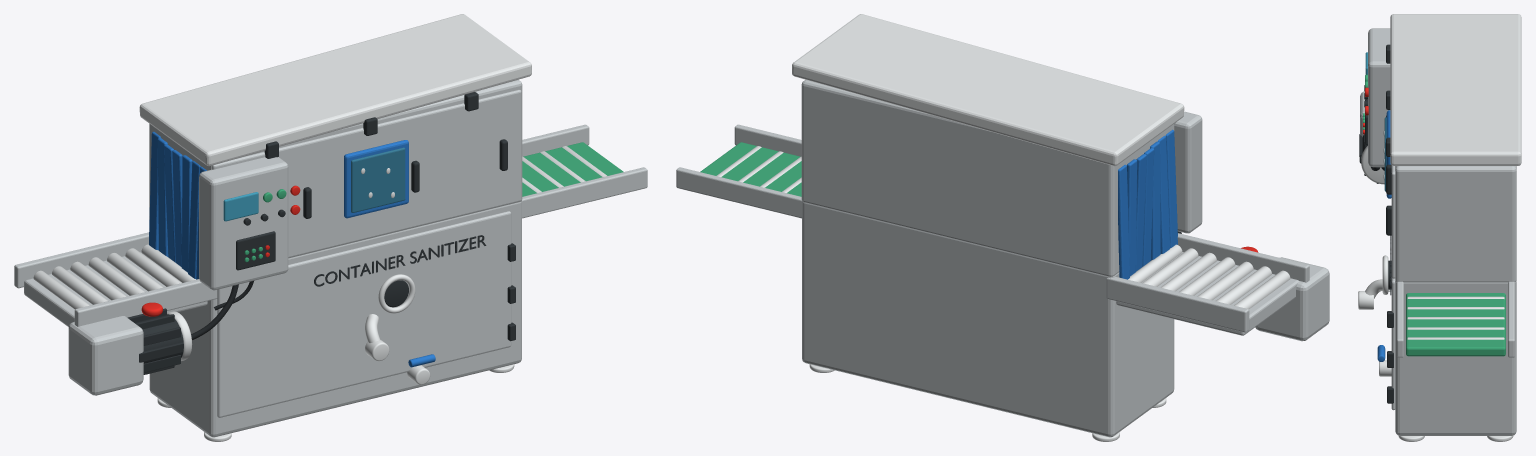
Rendered from container-sanitizer.glb.
3 views of the same model, side by side, from view 1: azimuth 30°, elevation 25°; view 2: azimuth 150°, elevation 25°; view 3: azimuth 270°, elevation 25° (orthographic). The views are drawn at different scales.
Parts seen in each view (by area): view 1: Lower Service Door, Sloped Roof, Lower Recirculation Cabinet, Upper Center Access Door, Upper Right Access Door, Operator Panel Housing, Lower Left Fixed Panel, Drive Gearbox, Upper Left Access Door, Inspection Window Pane, Exit Conveyor Front Rail, Entrance Conveyor Front Rail (+24 smaller); view 2: Lower Recirculation Cabinet, Upper Spray Chamber, Sloped Roof, Entrance Conveyor Rear Rail, Operator Panel Housing, Drive Gearbox, Exit Conveyor Rear Rail, Exit Conveyor Belt, Entrance Conveyor Base, Entrance Conveyor Front Rail, Exit Conveyor Front Rail, Entry Curtain Strip 7 (+13 smaller); view 3: Sloped Roof, Upper Spray Chamber, Lower Recirculation Cabinet, Exit Conveyor Belt, Operator Panel Housing, Upper Right Access Door, Exit Conveyor Front Rail, Exit Conveyor Rear Rail, Lower Service Door, Drive Motor End Cap, Exit Roller 3, Exit Roller 4 (+11 smaller).
Boxes of the visible parts, left/top/right/bottom form: Lower Service Door: left=275, top=211, right=511, bottom=404; Sloped Roof: left=139, top=14, right=531, bottom=166; Lower Recirculation Cabinet: left=149, top=201, right=521, bottom=437; Upper Center Access Door: left=298, top=109, right=439, bottom=254; Upper Right Access Door: left=420, top=89, right=521, bottom=225; Operator Panel Housing: left=199, top=157, right=288, bottom=290; Lower Left Fixed Panel: left=217, top=273, right=283, bottom=417; Drive Gearbox: left=68, top=316, right=143, bottom=395; Upper Left Access Door: left=212, top=137, right=326, bottom=257; Inspection Window Pane: left=351, top=147, right=405, bottom=212; Exit Conveyor Front Rail: left=521, top=167, right=647, bottom=218; Entrance Conveyor Front Rail: left=74, top=279, right=217, bottom=326; Lower Recirculation Cabinet: left=802, top=201, right=1174, bottom=437; Upper Spray Chamber: left=801, top=79, right=1174, bottom=276; Sloped Roof: left=792, top=14, right=1184, bottom=166; Entrance Conveyor Rear Rail: left=1106, top=276, right=1249, bottom=332; Operator Panel Housing: left=1174, top=111, right=1202, bottom=233; Drive Gearbox: left=1255, top=257, right=1329, bottom=341; Exit Conveyor Rear Rail: left=676, top=167, right=802, bottom=218; Exit Conveyor Belt: left=700, top=142, right=801, bottom=196; Entrance Conveyor Base: left=1116, top=252, right=1299, bottom=335; Entrance Conveyor Front Rail: left=1177, top=233, right=1309, bottom=282; Exit Conveyor Front Rail: left=734, top=124, right=801, bottom=156; Entry Curtain Strip 7: left=1118, top=164, right=1129, bottom=279; Sloped Roof: left=1390, top=14, right=1521, bottom=165; Upper Spray Chamber: left=1395, top=166, right=1516, bottom=282; Lower Recirculation Cabinet: left=1395, top=280, right=1516, bottom=435; Exit Conveyor Belt: left=1406, top=293, right=1505, bottom=356; Operator Panel Housing: left=1368, top=28, right=1390, bottom=167; Upper Right Access Door: left=1391, top=165, right=1395, bottom=278; Exit Conveyor Front Rail: left=1397, top=281, right=1403, bottom=357; Exit Conveyor Rear Rail: left=1508, top=281, right=1514, bottom=357; Lower Service Door: left=1391, top=278, right=1395, bottom=410; Drive Motor End Cap: left=1361, top=146, right=1384, bottom=184; Exit Roller 3: left=1407, top=317, right=1504, bottom=319; Exit Roller 4: left=1407, top=327, right=1504, bottom=329.
Bounding box in the file's own units: 10.01 × 5.13 × 2.58.
